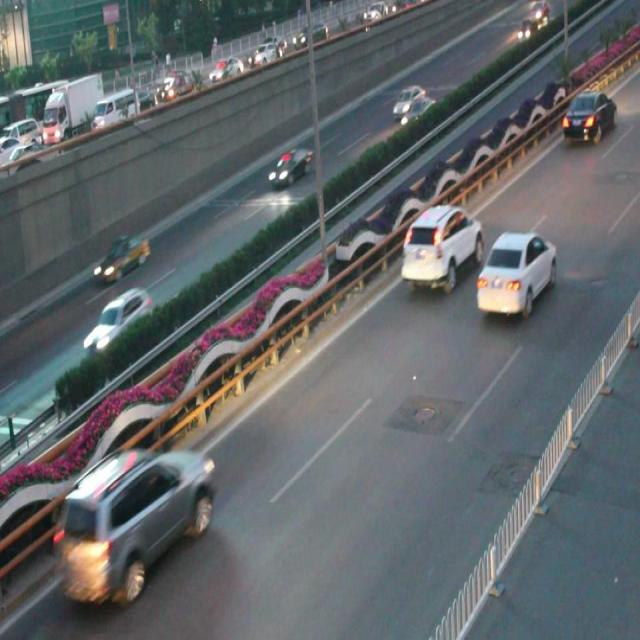car: (51, 450, 216, 604), (474, 226, 557, 313), (399, 205, 484, 288), (83, 287, 155, 347), (562, 86, 617, 147), (93, 234, 149, 279), (266, 146, 310, 190), (399, 95, 435, 130), (391, 82, 425, 116)
